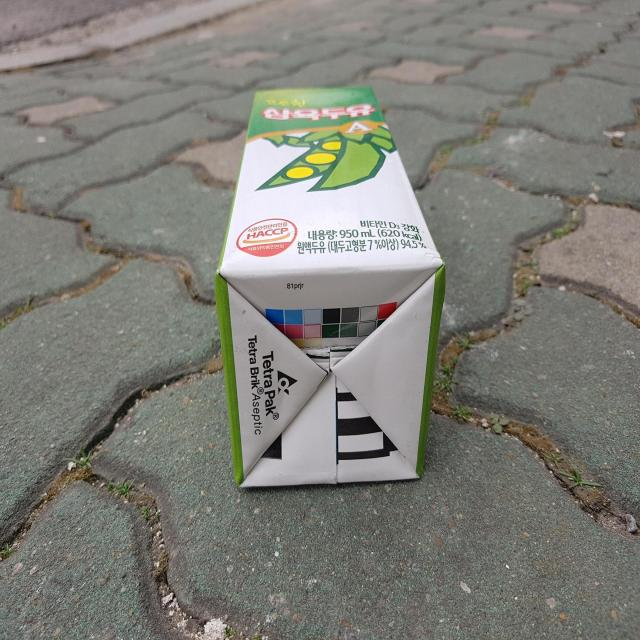paperpack: (215, 87, 446, 487)
